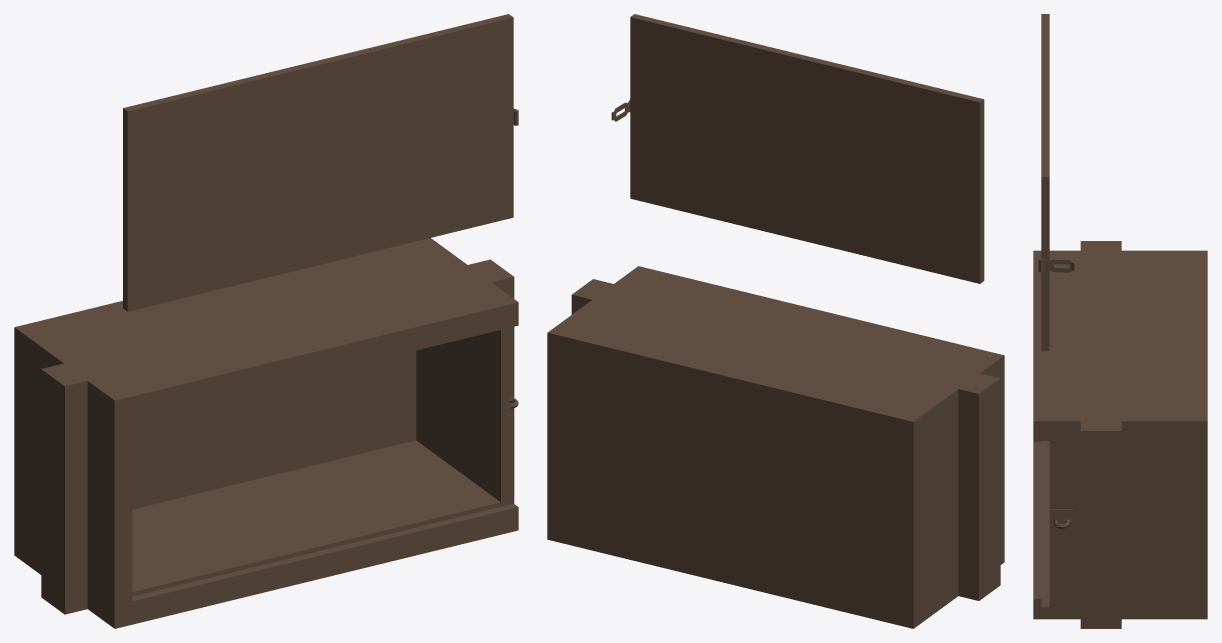
3 renders of one model, left to right at view 1: azimuth 30°, elevation 25°; view 2: azimuth 150°, elevation 25°; view 3: azimuth 270°, elevation 25°, orthographic. The views are drawn at different scales.
Visible parts, largest first — view 1: product-1282bed7-84c2-451d-8fcc-8a09d54844eb-body, product-e035d77c-a923-4f9c-ab70-3d7cb6185cd7-body; view 2: product-1282bed7-84c2-451d-8fcc-8a09d54844eb-body, product-e035d77c-a923-4f9c-ab70-3d7cb6185cd7-body; view 3: product-1282bed7-84c2-451d-8fcc-8a09d54844eb-body, product-e035d77c-a923-4f9c-ab70-3d7cb6185cd7-body, product-8337fb9e-667a-45b0-9821-8b44bef4018b-body.
Part boxes in pixels (left/top/right/bottom): product-1282bed7-84c2-451d-8fcc-8a09d54844eb-body: left=14, top=238, right=518, bottom=628; product-e035d77c-a923-4f9c-ab70-3d7cb6185cd7-body: left=123, top=14, right=518, bottom=311; product-1282bed7-84c2-451d-8fcc-8a09d54844eb-body: left=547, top=266, right=1004, bottom=628; product-e035d77c-a923-4f9c-ab70-3d7cb6185cd7-body: left=630, top=14, right=984, bottom=283; product-1282bed7-84c2-451d-8fcc-8a09d54844eb-body: left=1033, top=241, right=1207, bottom=628; product-e035d77c-a923-4f9c-ab70-3d7cb6185cd7-body: left=1038, top=14, right=1049, bottom=350; product-8337fb9e-667a-45b0-9821-8b44bef4018b-body: left=1038, top=258, right=1074, bottom=272.
Size of the model in its own units: 0.3104 by 0.3365 by 0.1201.
